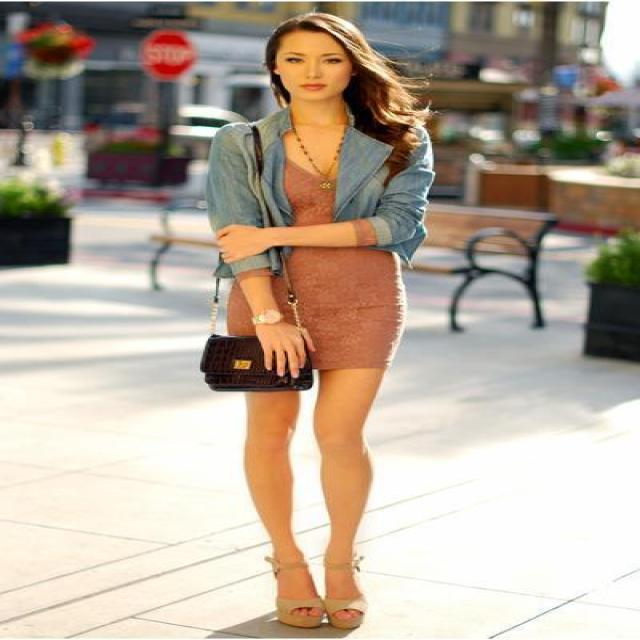bag: (200, 333, 315, 391)
dress: (227, 157, 402, 385)
jacket: (200, 90, 434, 293)
shoe: (276, 591, 362, 637)
